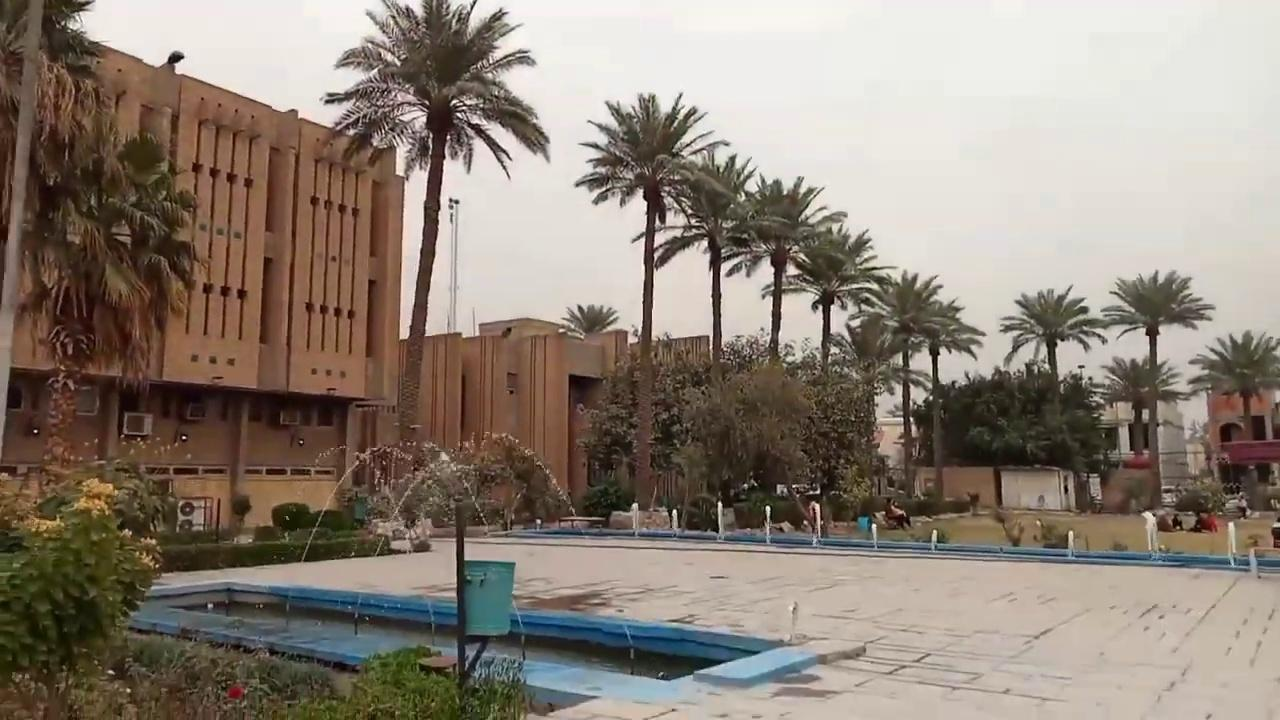fountain: (125, 426, 849, 709), (126, 572, 859, 708), (505, 495, 1277, 567)
person: (884, 497, 911, 530), (1140, 506, 1159, 552), (807, 498, 822, 535), (1193, 510, 1218, 532), (1236, 491, 1250, 519), (1171, 512, 1183, 530)
tree: (321, 0, 550, 501), (0, 0, 205, 485), (573, 91, 730, 511), (761, 222, 896, 524), (0, 0, 107, 312), (1099, 268, 1214, 509), (649, 152, 762, 384), (665, 358, 813, 532), (942, 361, 1109, 510), (575, 340, 711, 513), (726, 174, 847, 366), (763, 222, 896, 373), (865, 268, 948, 498), (777, 344, 880, 527), (912, 296, 985, 499), (997, 283, 1107, 408), (1188, 328, 1279, 440), (557, 302, 619, 339)
